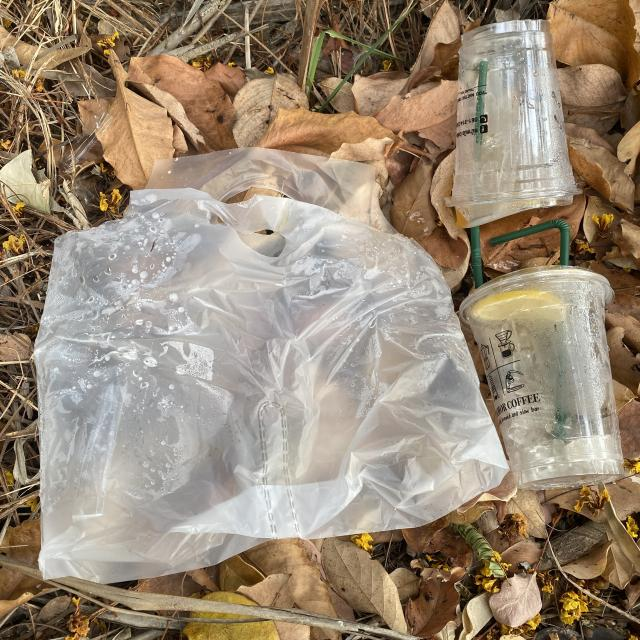Single-layer Plastic: (35, 189, 508, 582)
